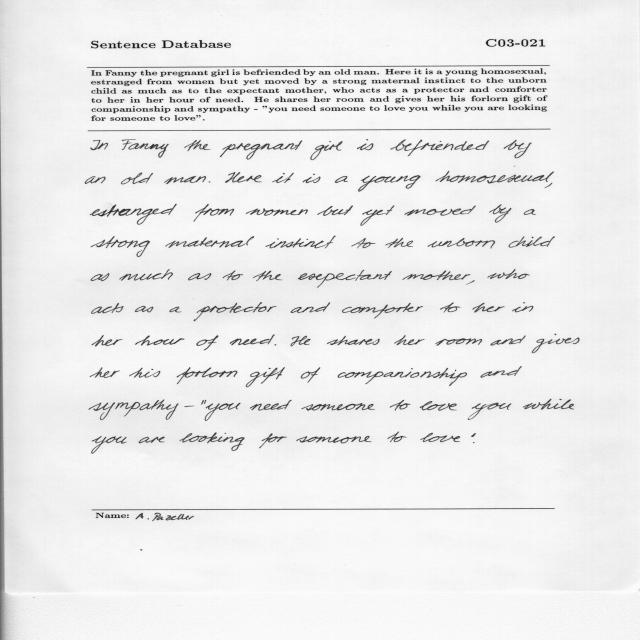word: (338, 368, 467, 386), (90, 204, 177, 225), (89, 400, 179, 420), (298, 270, 392, 288), (391, 140, 490, 156), (194, 302, 277, 321), (220, 141, 302, 160), (436, 171, 554, 184), (91, 236, 150, 257), (180, 432, 245, 451), (342, 303, 423, 318), (358, 175, 421, 192), (165, 236, 254, 248), (177, 367, 238, 384), (532, 334, 580, 353), (122, 139, 169, 158), (266, 236, 336, 248), (404, 205, 476, 216), (246, 367, 285, 387), (468, 402, 511, 420), (194, 204, 235, 222), (428, 238, 495, 249), (361, 206, 395, 226), (403, 271, 471, 281), (119, 269, 173, 281), (205, 403, 241, 421), (92, 436, 127, 454), (310, 141, 343, 160), (301, 403, 375, 411), (523, 399, 574, 410), (297, 436, 372, 443), (509, 237, 555, 248), (504, 140, 532, 158), (480, 366, 522, 378), (135, 336, 185, 346), (246, 208, 308, 216), (230, 335, 275, 346), (327, 336, 380, 345), (487, 269, 530, 279), (291, 302, 330, 313), (250, 400, 292, 410), (259, 434, 287, 449), (490, 204, 512, 223), (225, 172, 262, 183), (317, 205, 353, 216), (435, 338, 482, 346), (92, 335, 123, 347), (420, 401, 457, 411), (121, 173, 153, 184), (92, 303, 124, 314), (421, 433, 460, 442), (491, 336, 526, 346), (164, 176, 206, 184), (472, 303, 505, 313), (197, 335, 219, 350), (90, 367, 120, 378), (130, 368, 161, 378), (301, 367, 320, 383), (395, 335, 425, 345), (184, 140, 211, 151), (253, 271, 282, 281), (386, 238, 413, 248), (351, 238, 376, 248), (272, 173, 294, 183), (390, 400, 410, 411), (440, 303, 461, 313), (512, 303, 533, 313), (223, 271, 243, 281), (291, 336, 311, 346), (388, 432, 407, 442), (139, 437, 165, 444), (357, 140, 373, 151), (91, 140, 108, 150), (85, 176, 106, 184), (303, 174, 321, 183), (189, 273, 212, 280), (91, 273, 110, 281), (135, 306, 153, 312), (335, 176, 347, 183), (524, 209, 536, 215), (170, 307, 182, 313), (466, 280, 475, 285), (545, 183, 553, 188), (201, 400, 206, 404), (471, 433, 476, 437), (185, 406, 194, 407), (275, 344, 277, 346), (209, 182, 211, 183), (473, 442, 474, 443)
